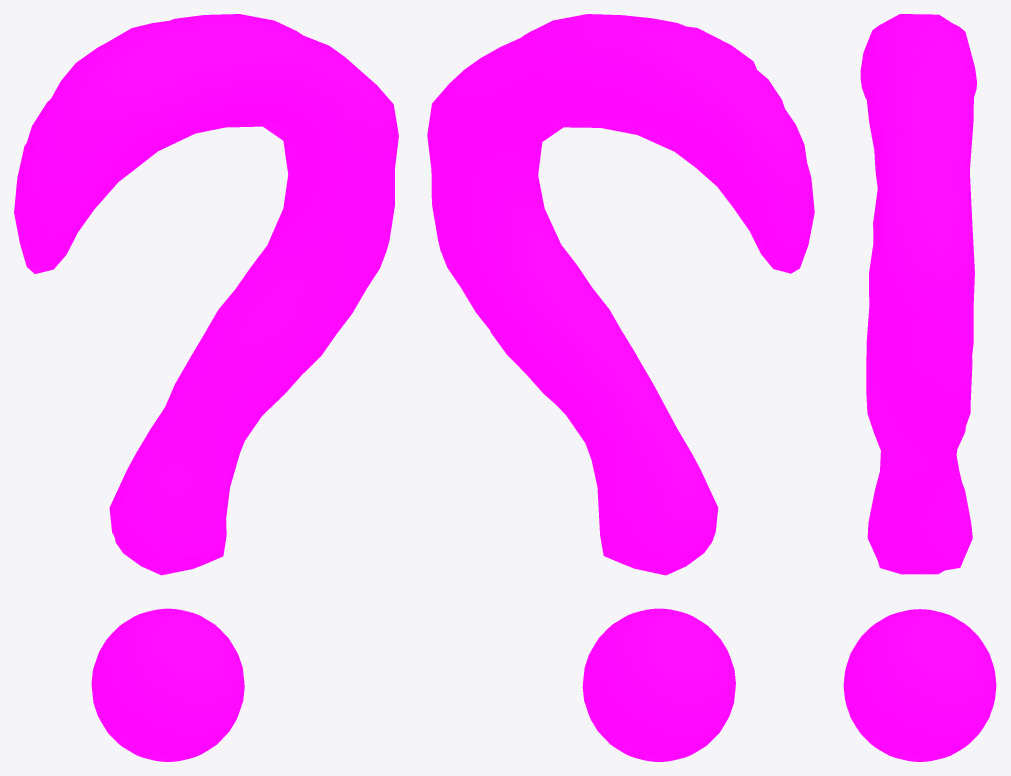
The model's file is mark.fbx.
The picture shows the model from 3 angles, left to right: view 1: azimuth 30°, elevation 25°; view 2: azimuth 150°, elevation 25°; view 3: azimuth 270°, elevation 25°; orthographic projection.
Parts seen in each view (by area): view 1: Cube, Sphere; view 2: Cube, Sphere; view 3: Cube, Sphere.
Boxes of the visible parts, left/top/right/bottom form: Cube: left=14, top=14, right=398, bottom=575; Sphere: left=91, top=608, right=244, bottom=761; Cube: left=427, top=14, right=814, bottom=575; Sphere: left=582, top=608, right=735, bottom=761; Cube: left=860, top=14, right=976, bottom=574; Sphere: left=843, top=609, right=996, bottom=761.
Size of the model in its own units: 560 by 1041 by 200.
